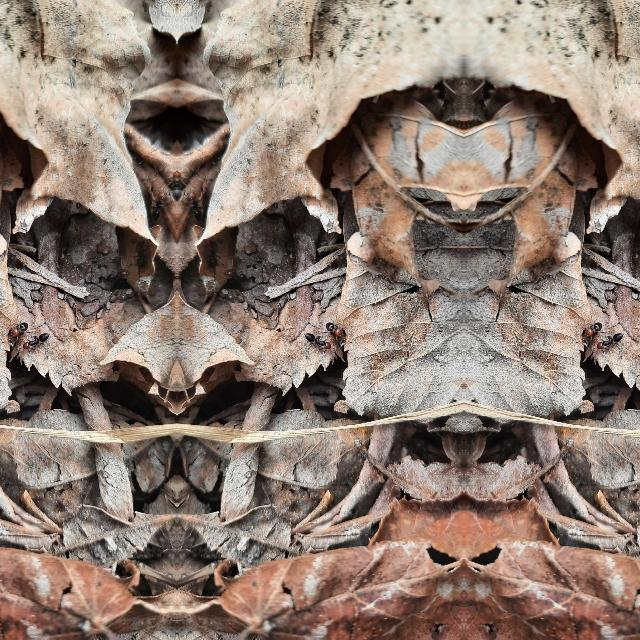Crematogaster: (303, 331, 333, 353), (19, 331, 49, 353), (594, 331, 624, 353), (321, 318, 345, 340), (7, 318, 31, 340), (582, 318, 606, 340)
